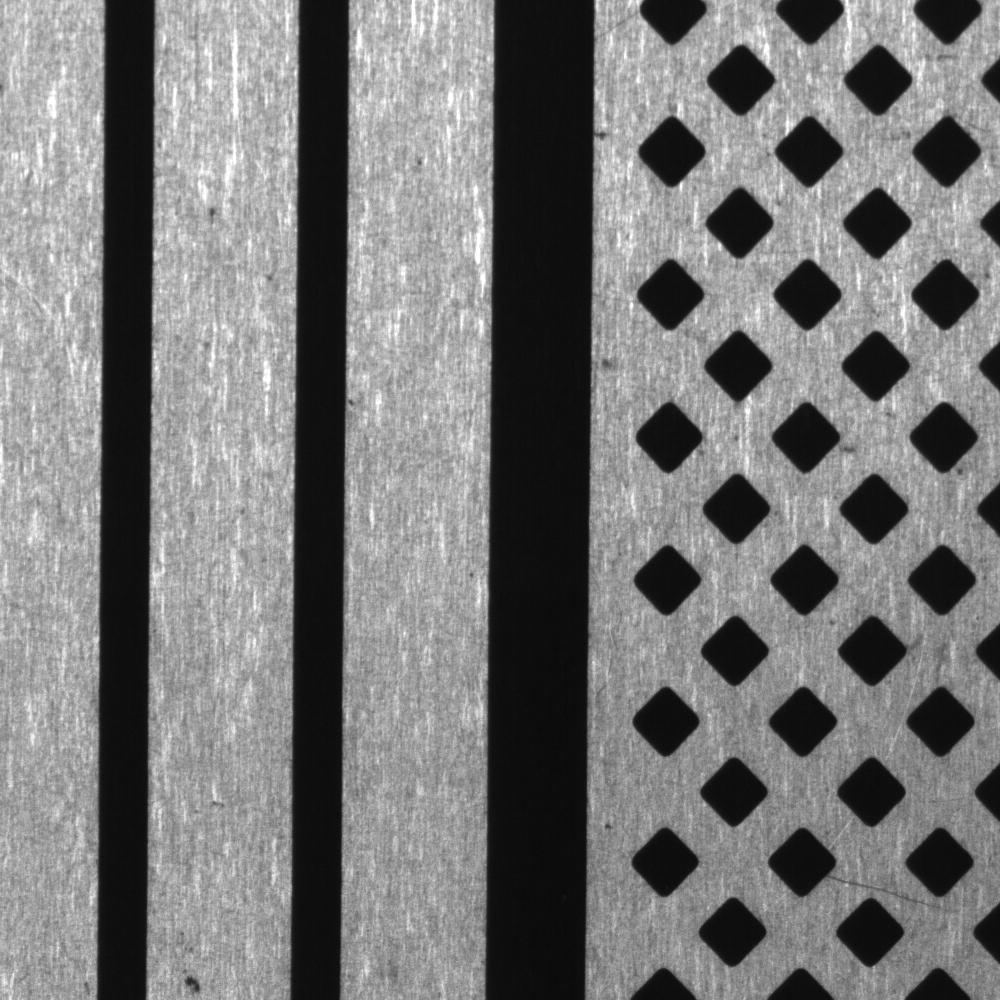Etching: (195, 189, 228, 227), (254, 256, 287, 293), (173, 962, 205, 997), (594, 348, 627, 377), (594, 122, 619, 147)
Pinhole: (405, 140, 442, 183), (454, 558, 486, 588)
Scar: (834, 865, 966, 923), (594, 2, 648, 45)
